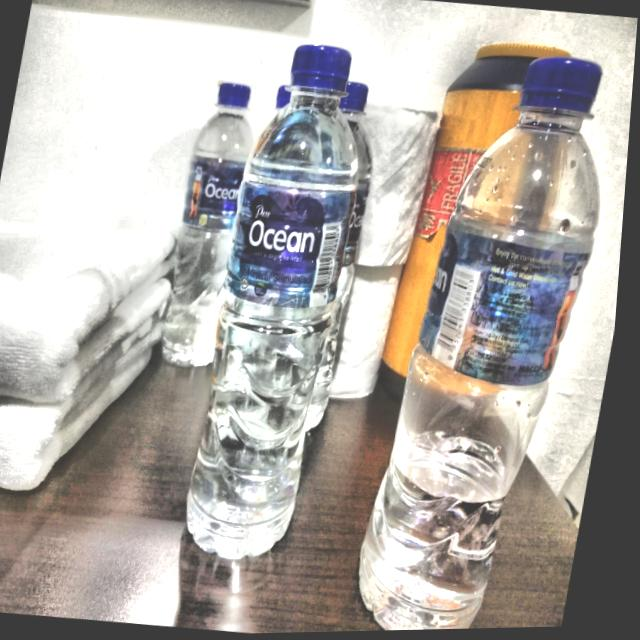Bottles: (351, 22, 633, 633), (176, 21, 398, 574), (144, 70, 286, 383)
